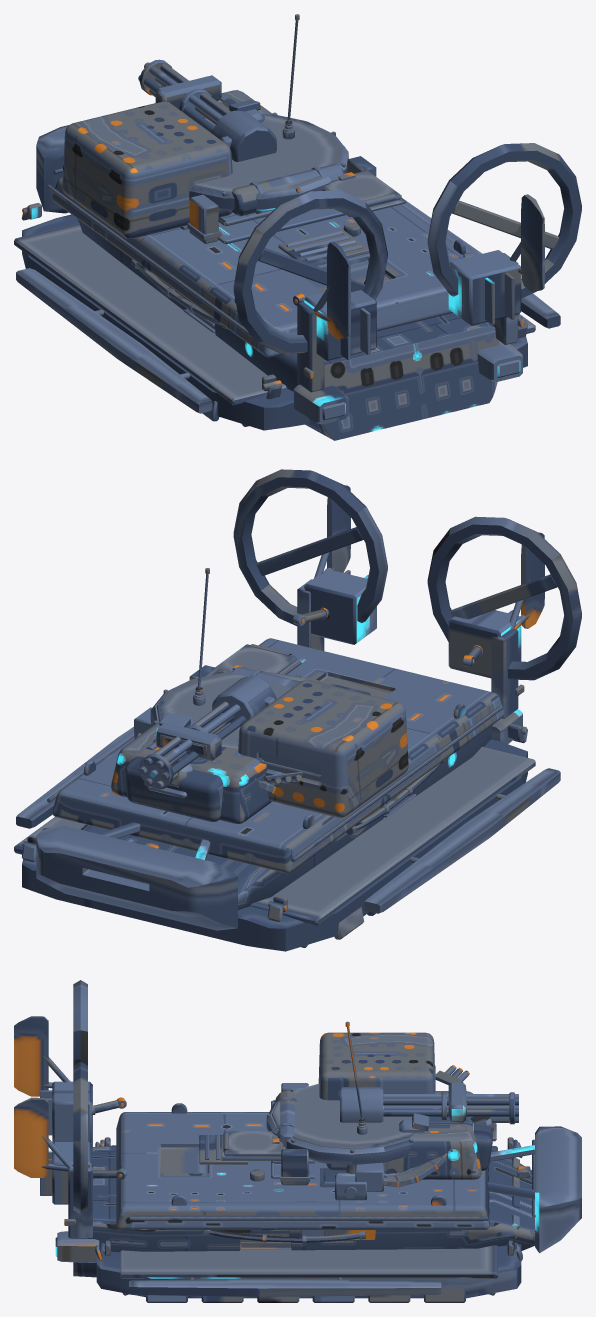
The model's file is TidebreakerHovercraft_Atlas.fbx.
3 views of the same model, one above another, from view 1: azimuth 30°, elevation 25°; view 2: azimuth 150°, elevation 25°; view 3: azimuth 270°, elevation 25° (orthographic). The views are drawn at different scales.
Visible parts, largest first — view 1: TidebreakerHovercraft_UnifiedMesh; view 2: TidebreakerHovercraft_UnifiedMesh; view 3: TidebreakerHovercraft_UnifiedMesh.
Part boxes in pixels (box(x1,y1,x2,y2)): TidebreakerHovercraft_UnifiedMesh: box(14, 14, 581, 440); TidebreakerHovercraft_UnifiedMesh: box(14, 469, 581, 951); TidebreakerHovercraft_UnifiedMesh: box(14, 980, 581, 1302).
Bounding box in the file's own units: 299 × 215 × 460.
1 material, 1 textured.
